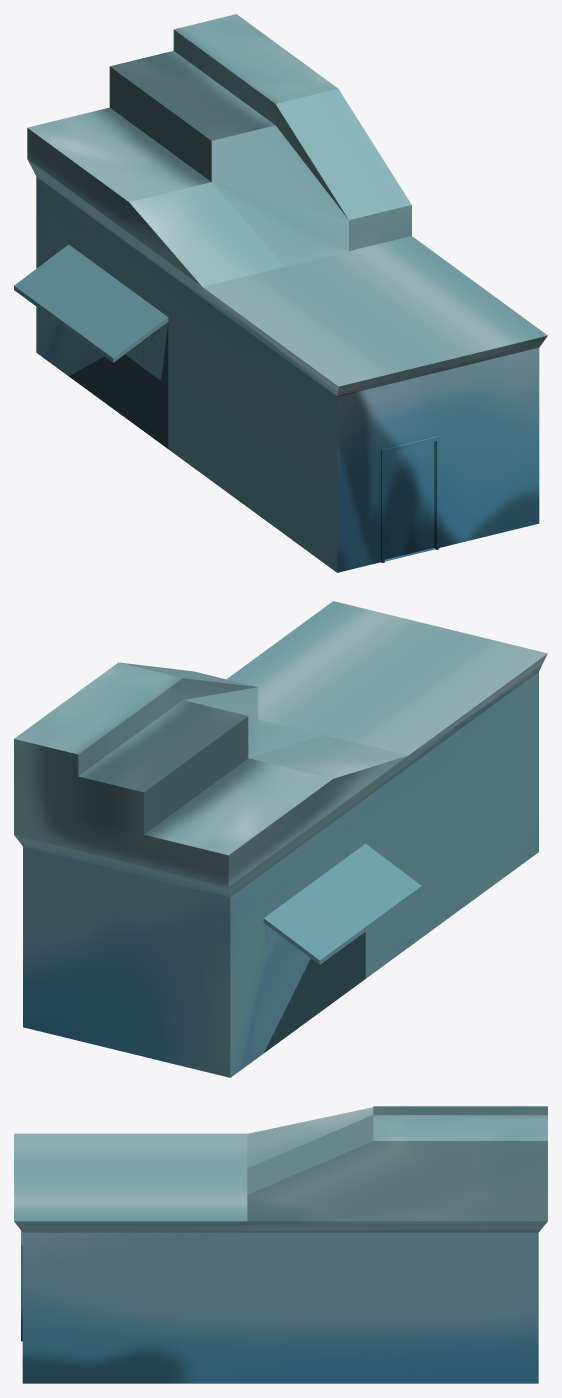
Rendered from ceiling2.fbx.
The picture shows the model from 3 angles, top to bottom: view 1: azimuth 30°, elevation 25°; view 2: azimuth 150°, elevation 25°; view 3: azimuth 270°, elevation 25°; orthographic projection. The views are drawn at different scales.
Parts seen in each view (by area): view 1: Techo2; view 2: Techo2; view 3: Techo2.
Boxes of the visible parts, bbox=[...] form: Techo2: bbox=[14, 14, 547, 572]; Techo2: bbox=[14, 601, 547, 1077]; Techo2: bbox=[14, 1106, 547, 1383].
Size of the model in its own units: 4508 by 4712 by 9339.
